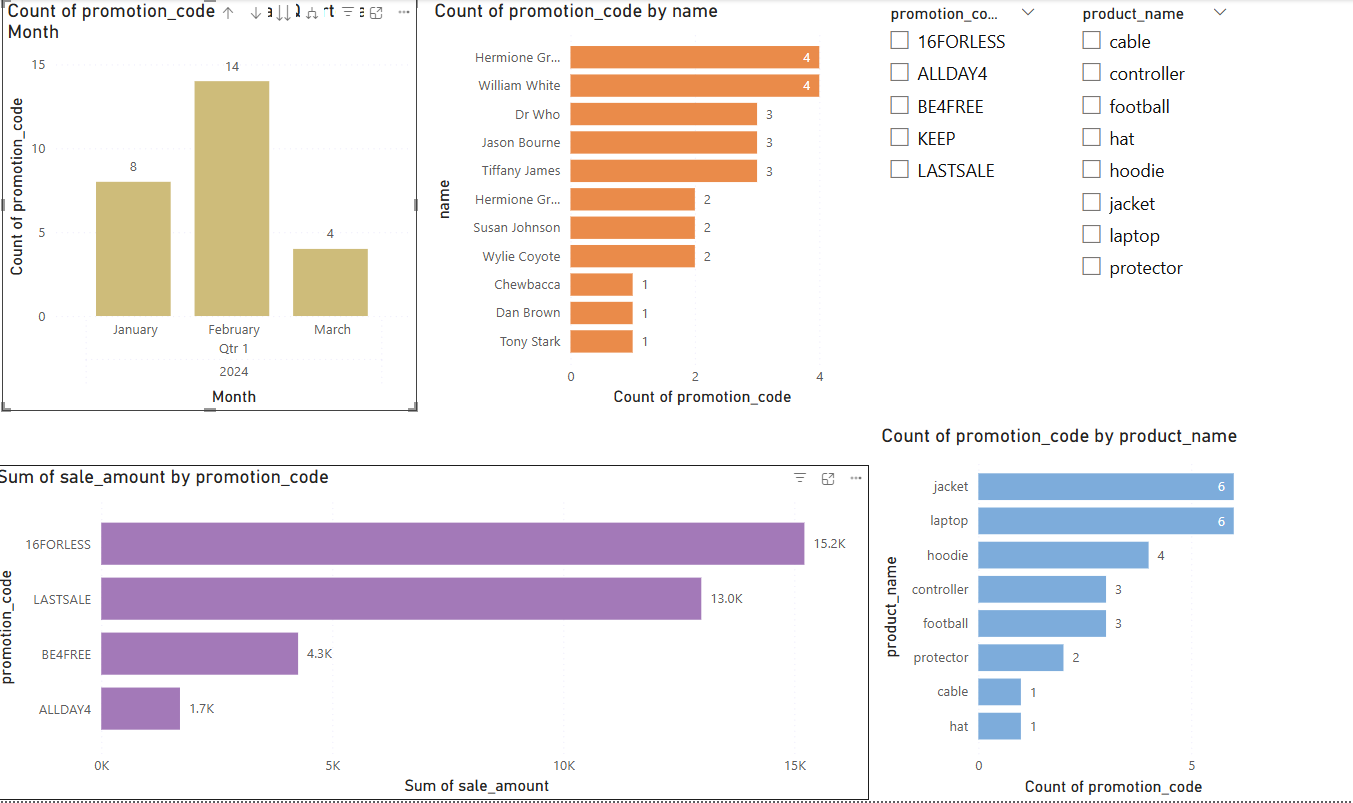

The page's visual inventory and layout, read from the dashboard file:
{"tool":"powerbi","page":{"name":"P6 and Promotion Codes","canvas":[1280,720],"ordinal":0},"visuals":[{"type":"columnChart","fields":{"Category":["sale.Year_dt.Variation.Date Hierarchy.Year","sale.Quarter_dt.Variation.Date Hierarchy.Quarter","sale.month_name_dt.Variation.Date Hierarchy.Month","sale.month_name_dt.Variation.Date Hierarchy.Day"],"Y":["CountNonNull(sale.promotion_code)"]},"box":[9.7,0,372.5,369.6],"z":0},{"type":"clusteredBarChart","fields":{"Category":["sale.promotion_code"],"Y":["Sum(sale.sale_amount)"]},"box":[0,418.4,788.3,301.1],"z":1000},{"type":"clusteredBarChart","fields":{"Category":["customer.name"],"Y":["CountNonNull(sale.promotion_code)"]},"box":[393,0,373,370],"z":2000},{"type":"clusteredBarChart","fields":{"Category":["product.product_name"],"Y":["CountNonNull(sale.promotion_code)"]},"box":[794.7,381.3,344.3,338.5],"z":3000},{"type":"slicer","fields":{"Values":["sale.promotion_code"]},"box":[794.7,0,155.6,176],"z":4000},{"type":"slicer","fields":{"Values":["product.product_name"]},"box":[966.5,0,155.6,292.1],"z":5000}]}

Visuals, with their boxes on the page's 1280x720 design canvas (x1, y1, x2, y2). These are canvas units, not pixel positions in the 1353x803 screenshot, which may show the page scaled, cropped or inside an application window:
columnChart - sale.Year_dt.Variation.Date Hierarchy.Year x sale.Quarter_dt.Variation.Date Hierarchy.Quarter: (10, 0, 382, 370)
clusteredBarChart - sale.promotion_code x Sum(sale.sale_amount): (0, 418, 788, 720)
clusteredBarChart - customer.name x CountNonNull(sale.promotion_code): (393, 0, 766, 370)
clusteredBarChart - product.product_name x CountNonNull(sale.promotion_code): (795, 381, 1139, 720)
slicer - sale.promotion_code: (795, 0, 950, 176)
slicer - product.product_name: (966, 0, 1122, 292)
